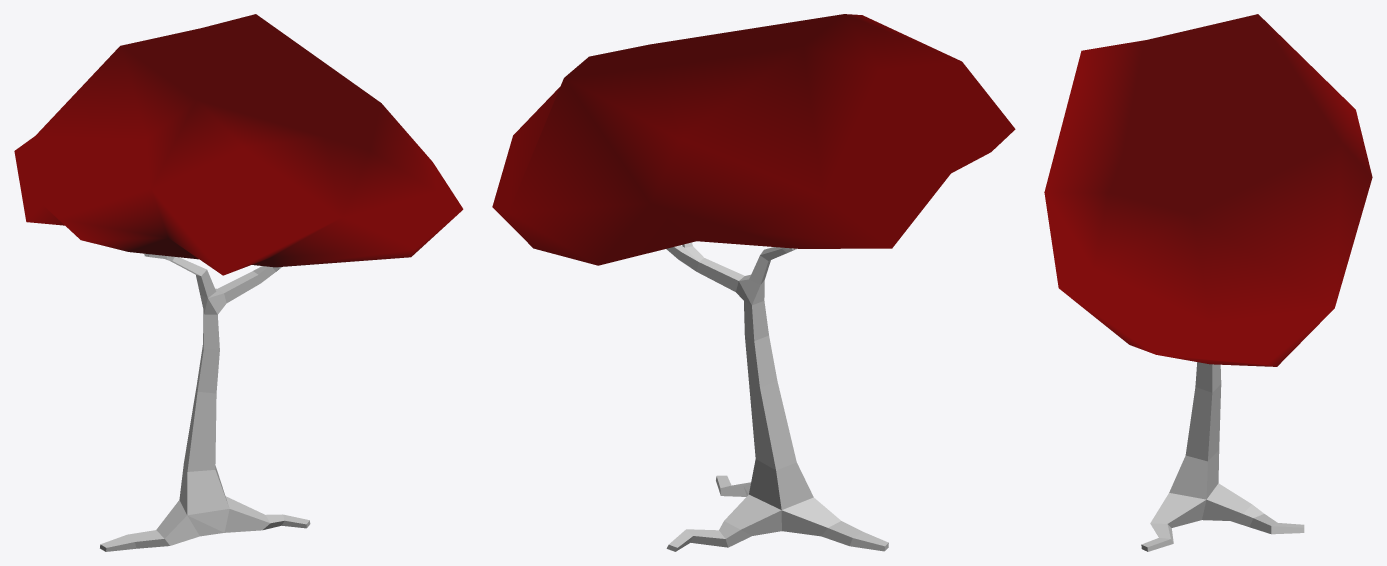
The model's file is BallTree_UV.fbx.
3 views of the same model, side by side, from view 1: azimuth 30°, elevation 25°; view 2: azimuth 150°, elevation 25°; view 3: azimuth 270°, elevation 25° (orthographic). The views are drawn at different scales.
Parts seen in each view (by area): view 1: LEAF, TRUNK; view 2: LEAF, TRUNK; view 3: LEAF, TRUNK.
Part boxes in pixels (x1,y1,x2,y2): LEAF: [14, 14, 463, 275]; TRUNK: [100, 253, 310, 551]; LEAF: [492, 14, 1015, 265]; TRUNK: [666, 242, 888, 551]; LEAF: [1044, 14, 1372, 366]; TRUNK: [1141, 362, 1304, 551].
Size of the model in its own units: 75.22 by 81.16 by 50.72.
